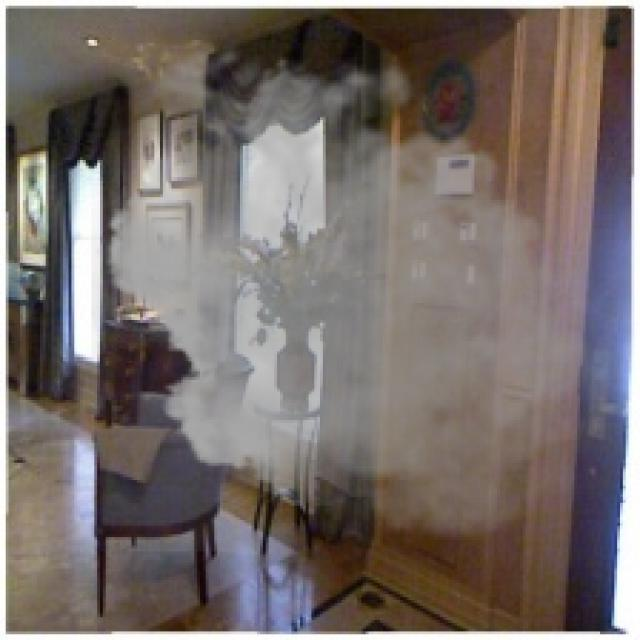smoke: (91, 29, 614, 552)
